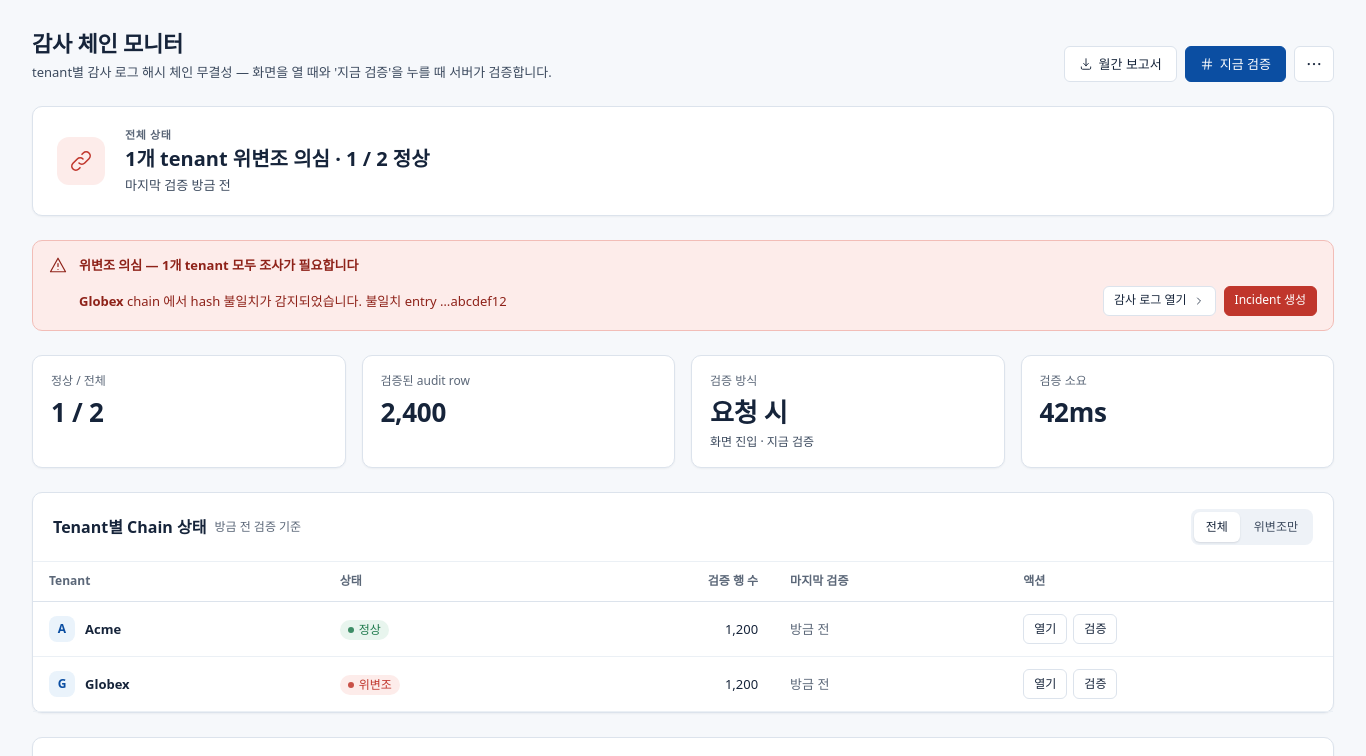
it: AuditChainPage V2 › 위변조만 세그먼트
The image size is (1366, 756).
Expected: the text "Acme" is shown, x1=85 y1=619 x2=121 y2=640
Click the button "위변조만" at (1276, 528), box x1=1242 y1=512 x2=1310 y2=542
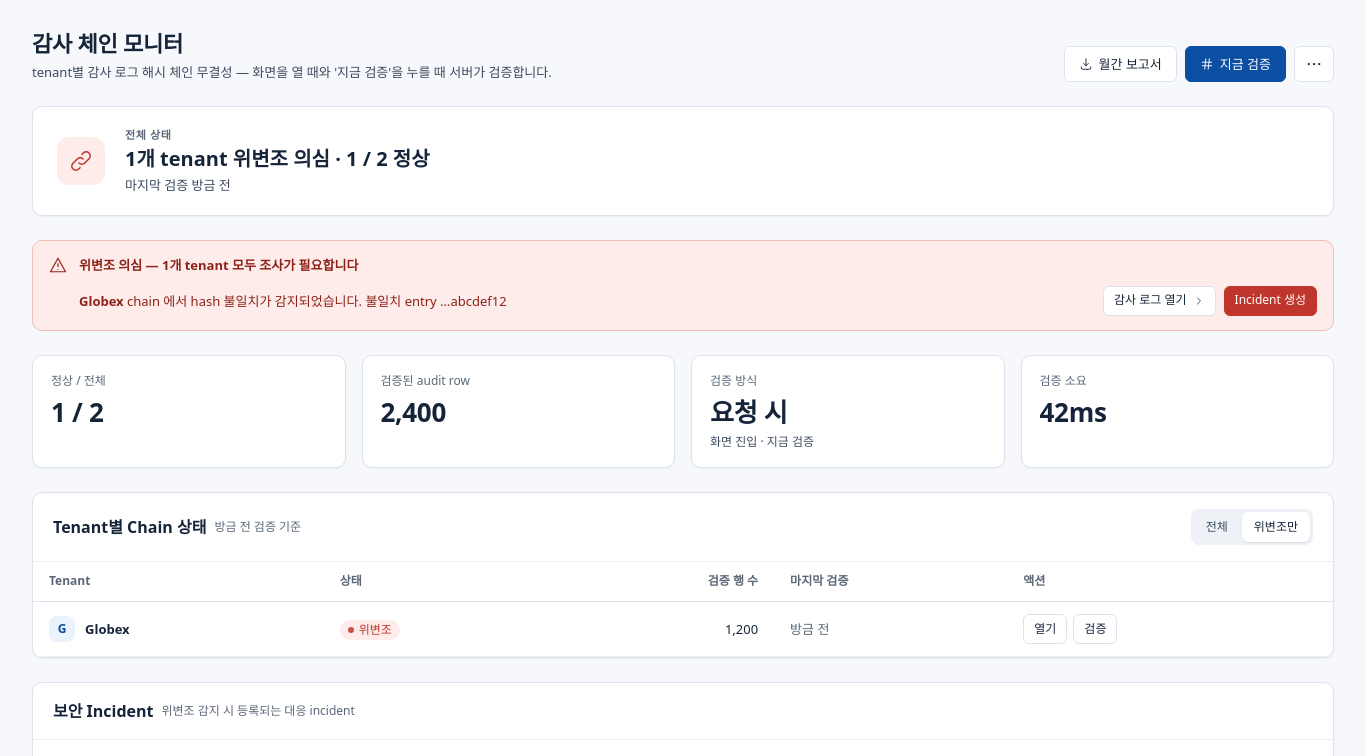
Expected: the text "Globex" in the row of "1,200" is shown, x1=85 y1=620 x2=130 y2=638
Result: the text "Acme" is gone
